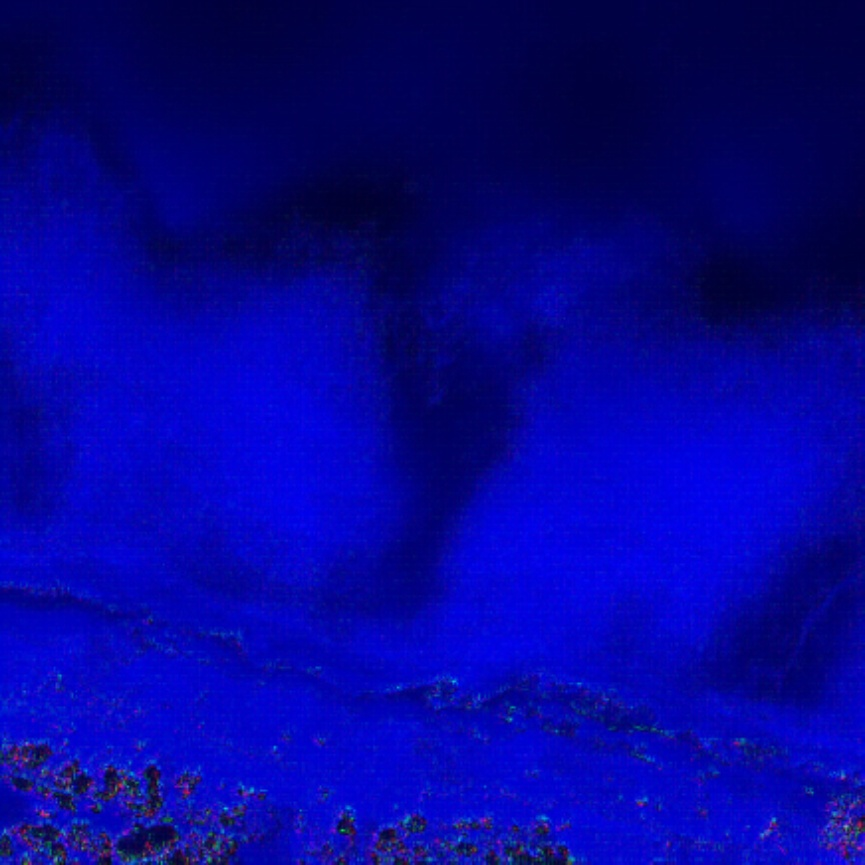rip_current: (296, 122, 554, 624)
